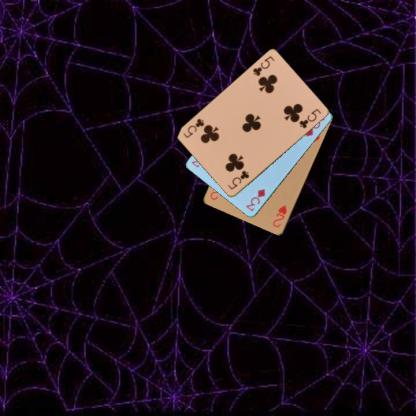2h: (270, 203, 288, 229)
3d: (244, 186, 266, 212)
5c: (250, 54, 276, 77), (226, 168, 250, 191)
